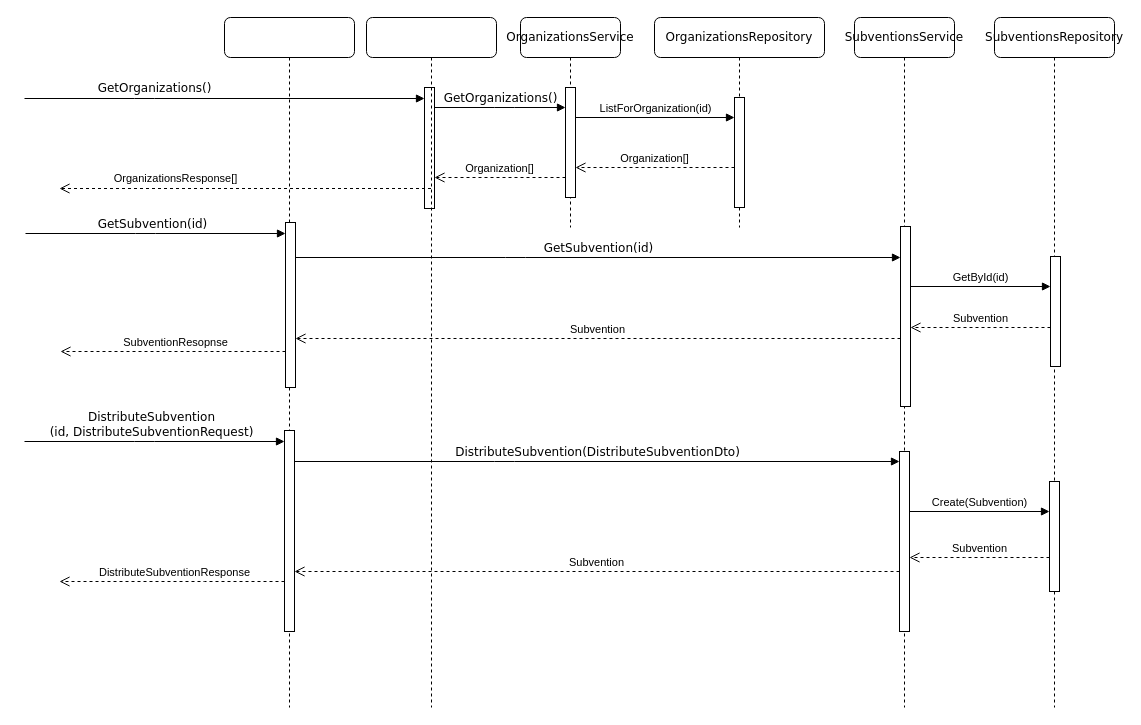
This 1141x725 diagram has some shape labels left out. The shapes that lost their labels are listed below. From the top down, each one's box as (x1, y1, x2, y2) in pixels, then its label:
(224, 16, 354, 708): SubventionsController
(366, 16, 496, 708): OrganizationsController
